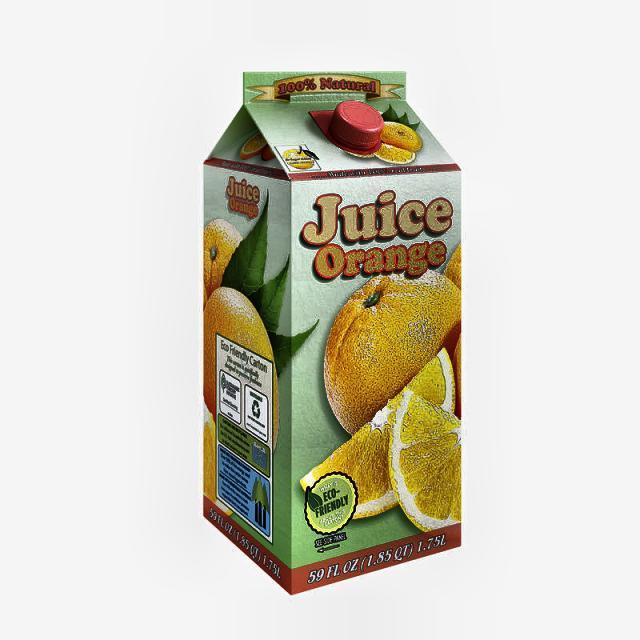cardboard: (201, 70, 464, 594)
